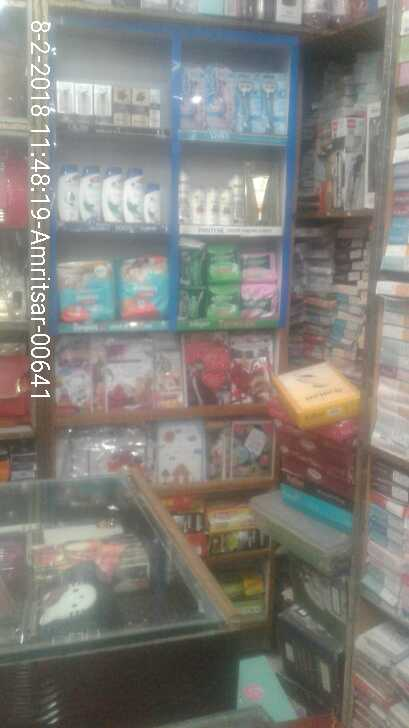venus: (261, 73, 288, 134), (234, 72, 260, 135), (208, 65, 233, 127), (184, 67, 208, 127)
